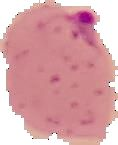parasitized: (11, 8, 111, 140), (31, 10, 107, 69)
